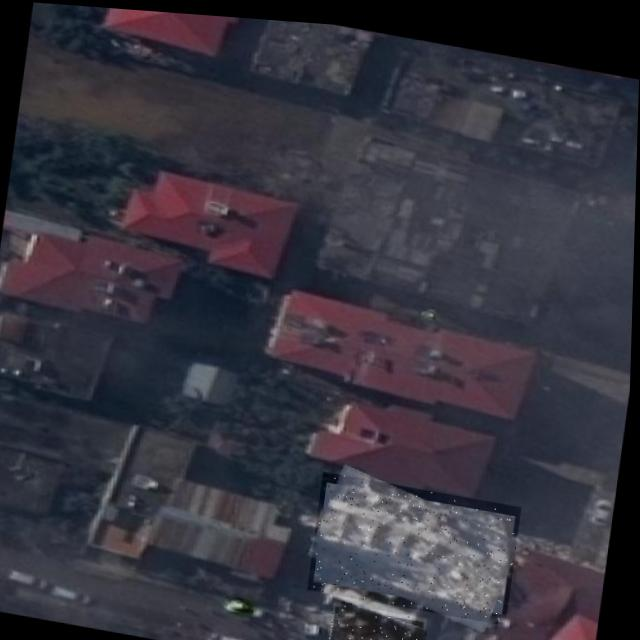Rubble: (309, 465, 523, 618), (328, 595, 430, 640)
